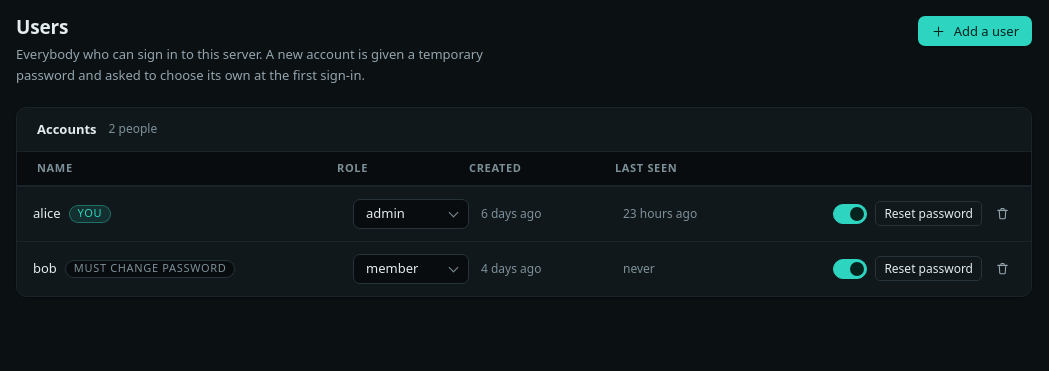
Test: changing somebody › shows a refusal on the row it was refused for
Expected: the text "alice" is shown, [33,204,61,223]
Select "member" in the dropdown named "Role for alice" at (411, 214), box [353,199,469,229]
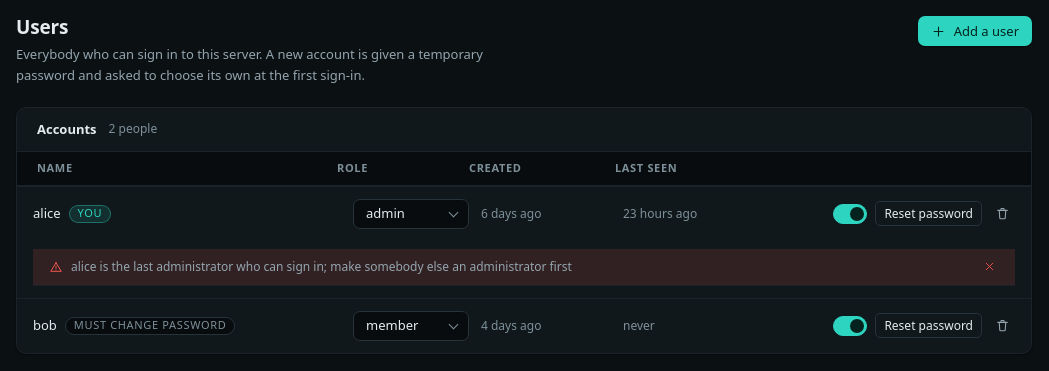
Result: the message shows "last administrator" at [71,258,572,275]
